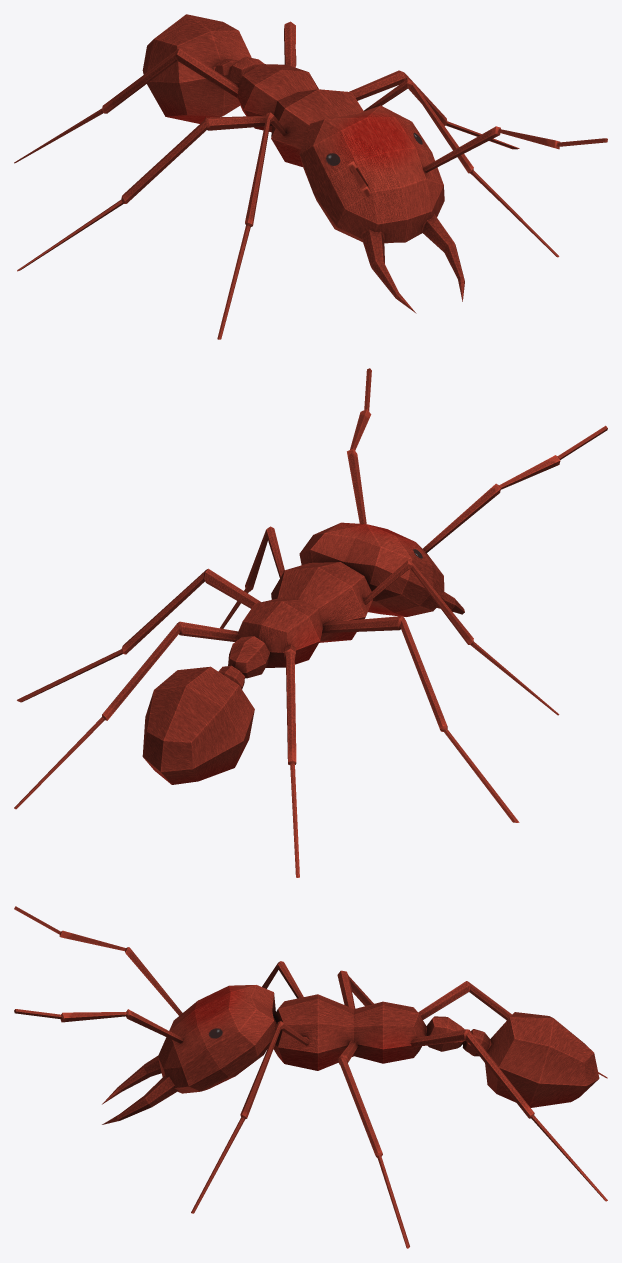
File: Red ant.glb
The picture shows the model from 3 angles, top to bottom: view 1: azimuth 30°, elevation 25°; view 2: azimuth 150°, elevation 25°; view 3: azimuth 270°, elevation 25°; orthographic projection. The views are drawn at different scales.
Visible parts, largest first — view 1: LeafCutterAnt_mesh; view 2: LeafCutterAnt_mesh; view 3: LeafCutterAnt_mesh.
Boxes of the visible parts, box(x1,y1,x2,y2) form: LeafCutterAnt_mesh: box(14, 14, 607, 339); LeafCutterAnt_mesh: box(14, 368, 607, 877); LeafCutterAnt_mesh: box(14, 906, 607, 1248).
Size of the model in its own units: 10.02 by 3.88 by 11.48.
1 material, 1 textured.
